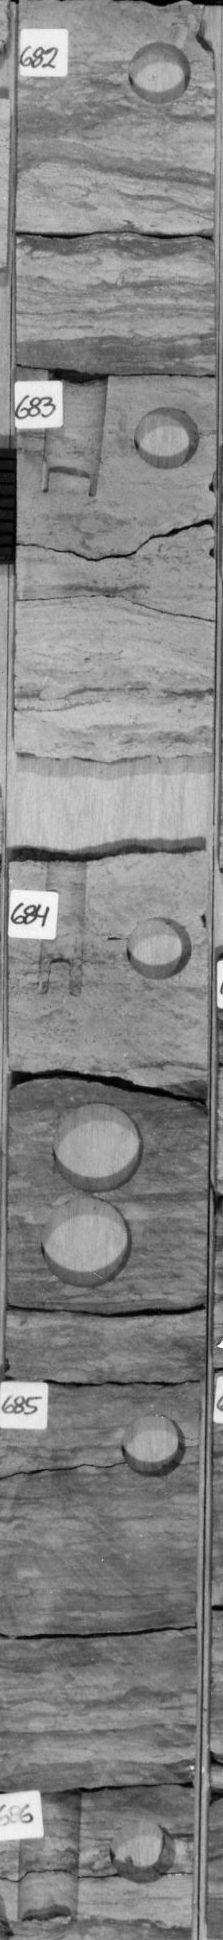hplug: (114, 909, 196, 984), (128, 401, 208, 473), (111, 1406, 192, 1475), (102, 1815, 178, 1887), (114, 41, 198, 103)
scal: (46, 1095, 146, 1193), (36, 1195, 136, 1289)
vplug: (7, 1787, 88, 1926), (38, 363, 114, 511), (36, 861, 98, 997)
